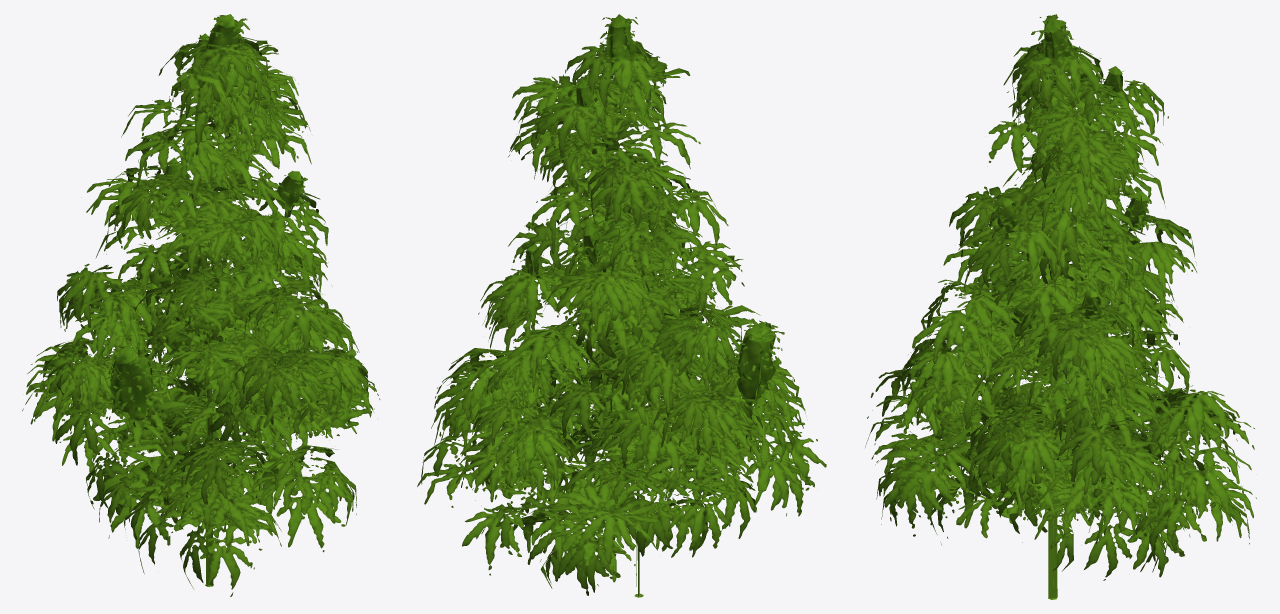
Rendered from kytka_mari_kosata.glb.
3 renders of one model, left to right at view 1: azimuth 30°, elevation 25°; view 2: azimuth 150°, elevation 25°; view 3: azimuth 270°, elevation 25°, orthographic. The views are drawn at different scales.
Parts seen in each view (by area): view 1: kytka_mari_kosata_0; view 2: kytka_mari_kosata_0; view 3: kytka_mari_kosata_0.
Boxes of the visible parts, <box> form: kytka_mari_kosata_0: <box>22,14,380,596</box>; kytka_mari_kosata_0: <box>417,14,826,597</box>; kytka_mari_kosata_0: <box>865,14,1256,599</box>.
Size of the model in its own units: 0.6032 by 0.9953 by 0.6196.
1 material, 1 textured.
